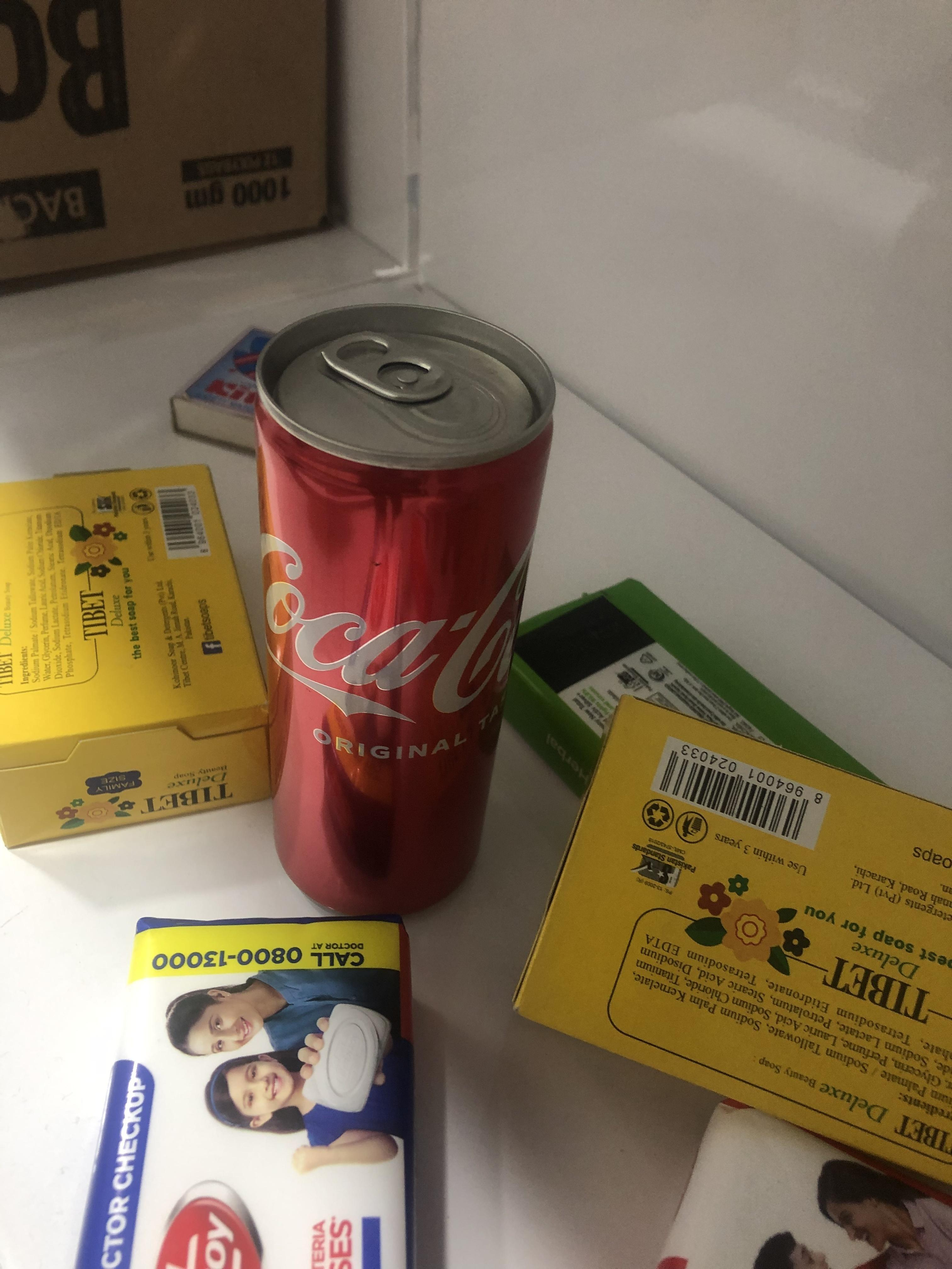tin can: (237, 293, 573, 934)
